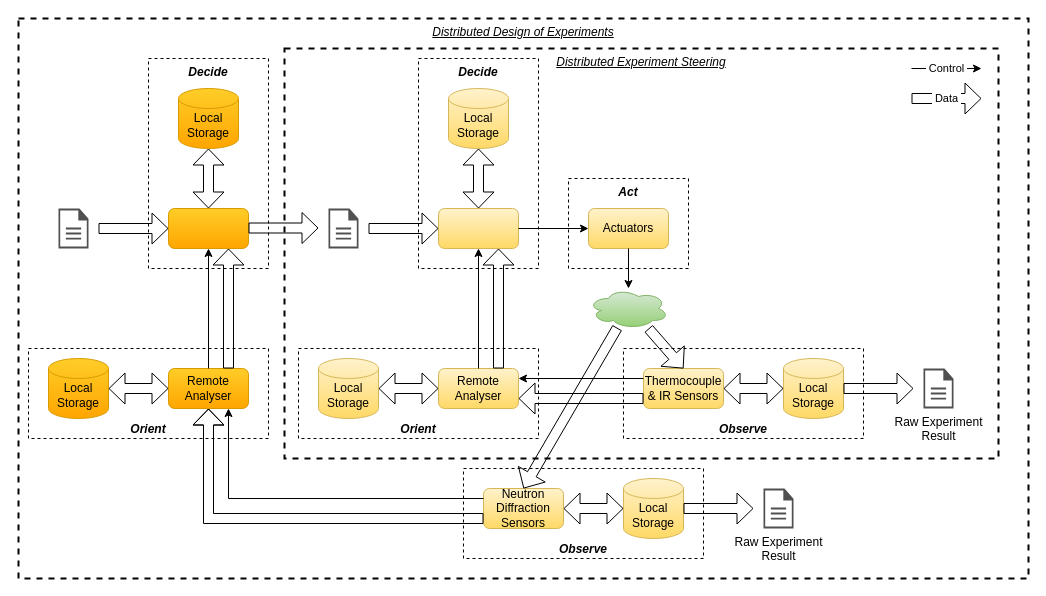
Image size: 1046x596. Some labels were removed from this diagram. The shapes that lost their labels are listed below. From the top down, each one's centre as x and y in pixels, then its label:
At [73,228]: "Experiment Design Plan".
At [208,228]: "Remote Planner".
At [343,228]: "Experiment Plan".
At [478,228]: "Controller".
At [628,308]: "3D Metal Printing".
